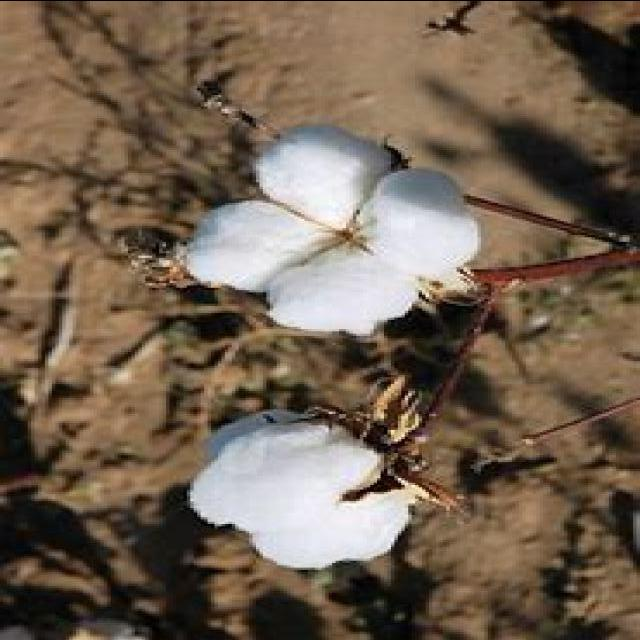Matured Cotton Boll: (170, 118, 474, 337), (184, 396, 427, 568)
